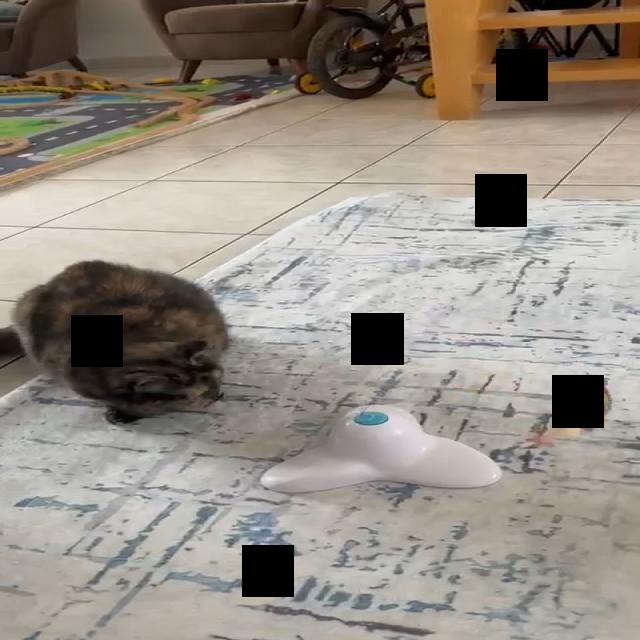authorized: (9, 259, 230, 425)
